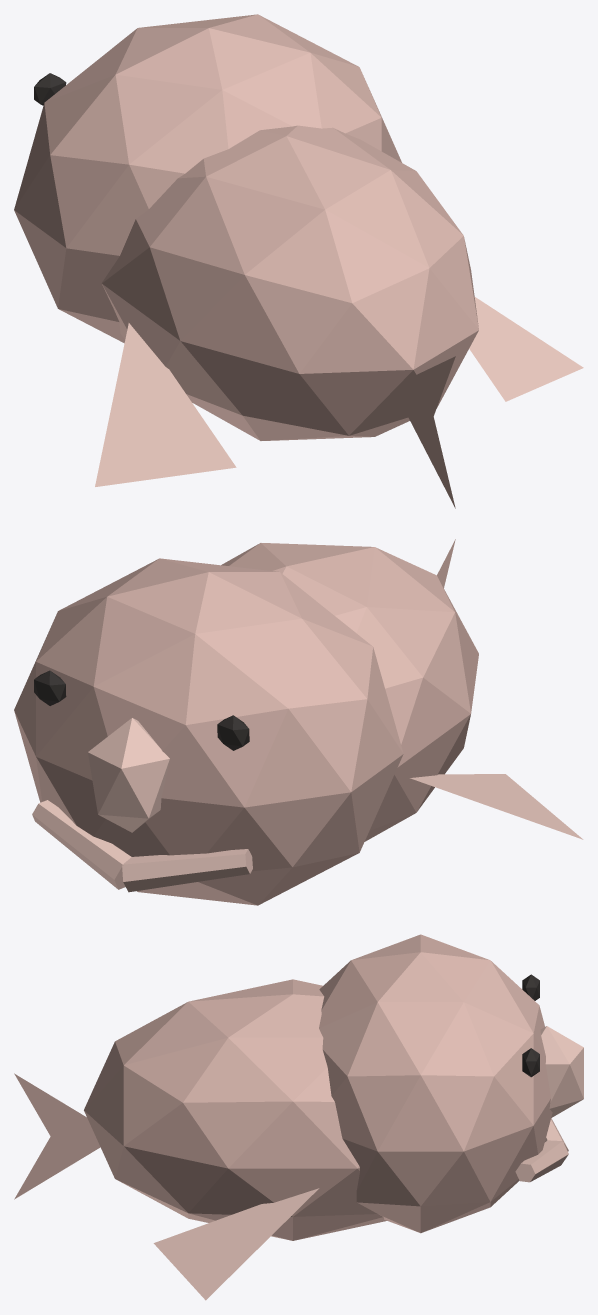
Rendered from Blobfish.fbx.
3 views of the same model, one above another, from view 1: azimuth 30°, elevation 25°; view 2: azimuth 150°, elevation 25°; view 3: azimuth 270°, elevation 25° (orthographic). The views are drawn at different scales.
Visible parts, largest first — view 1: Body, Head, Pectoral1, Pectoral-1, TailFin, Eye1; view 2: Head, Body, DroopingNose, Lip1, Pectoral1, Lip-1, Eye1, Eye-1; view 3: Head, Body, Pectoral-1, TailFin, DroopingNose, Lip-1.
Part boxes in pixels (x1,y1,x2,y2): Body: (101, 125, 478, 440); Head: (14, 14, 401, 343); Pectoral1: (95, 323, 236, 486); Pectoral-1: (469, 297, 583, 401); TailFin: (400, 356, 455, 508); Eye1: (34, 73, 66, 105); Head: (14, 558, 403, 905); Body: (221, 543, 478, 841); DroopingNose: (88, 718, 169, 832); Lip1: (122, 849, 252, 892); Pectoral1: (410, 774, 583, 839); Lip-1: (32, 800, 131, 889); Eye1: (217, 715, 249, 750); Eye-1: (34, 670, 66, 705); Head: (319, 934, 552, 1233); Body: (84, 979, 386, 1240); Pectoral-1: (153, 1188, 319, 1300); TailFin: (14, 1073, 100, 1199); DroopingNose: (540, 1026, 583, 1117); Lip-1: (515, 1140, 568, 1182).
Bounding box in the file's own units: 0.8 × 0.52 × 0.9808.
